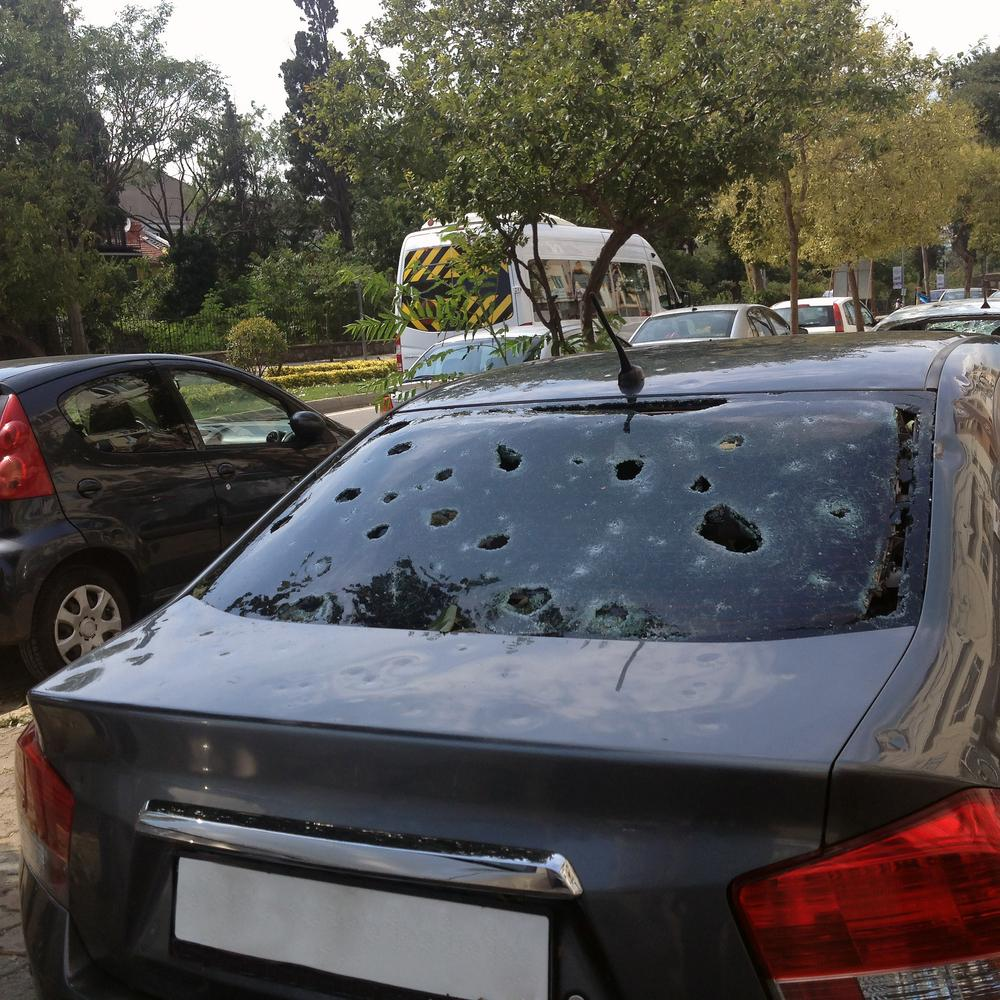dent: (494, 705, 550, 733), (674, 677, 724, 705), (336, 664, 380, 693), (272, 675, 323, 697), (384, 653, 427, 675), (691, 714, 731, 733), (692, 650, 725, 669), (196, 626, 221, 639), (215, 649, 238, 661)
glass shatter: (199, 389, 938, 642)
